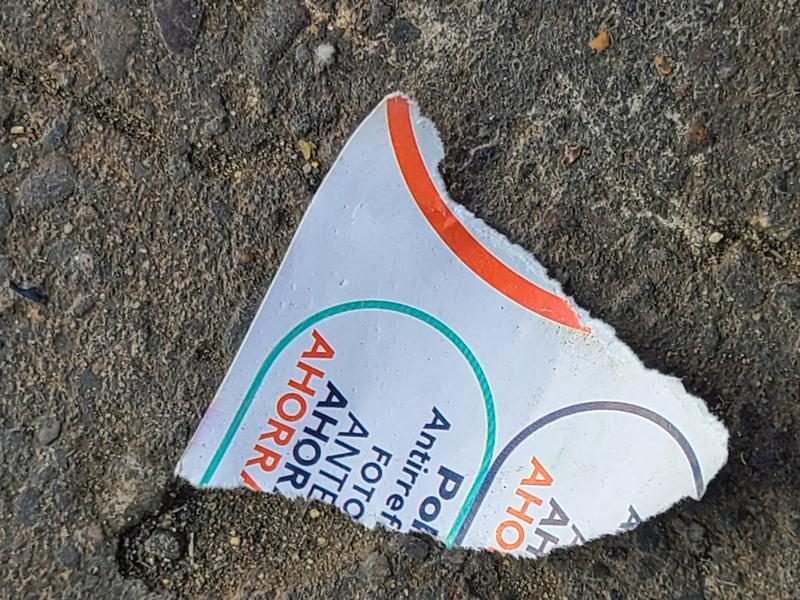papel: (174, 94, 729, 561)
